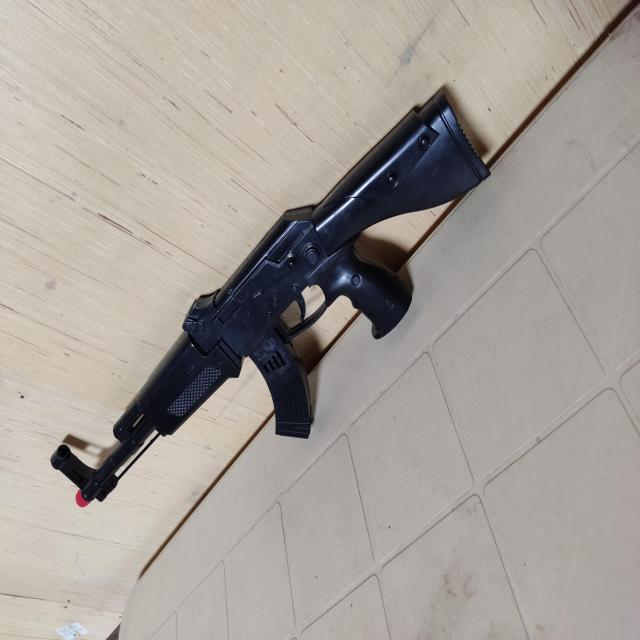rifle: (50, 84, 490, 523)
